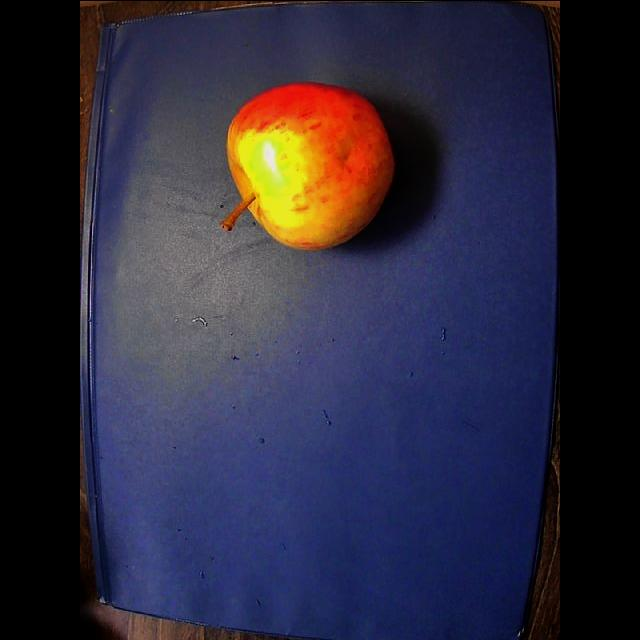manzana: (221, 82, 394, 249)
